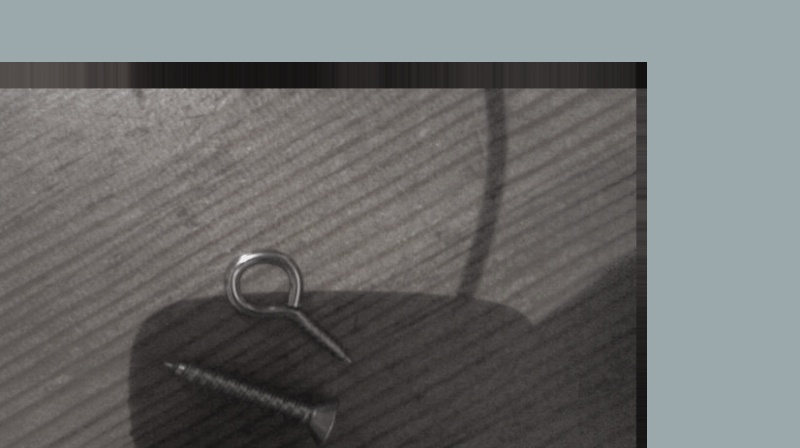O001: (224, 247, 353, 366)
S001: (161, 358, 340, 445)
